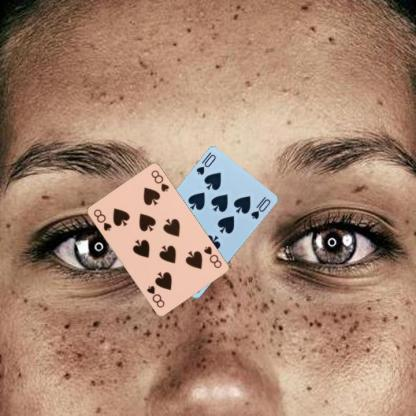10s: (194, 152, 217, 176)
8s: (90, 206, 112, 232), (201, 243, 223, 269)
